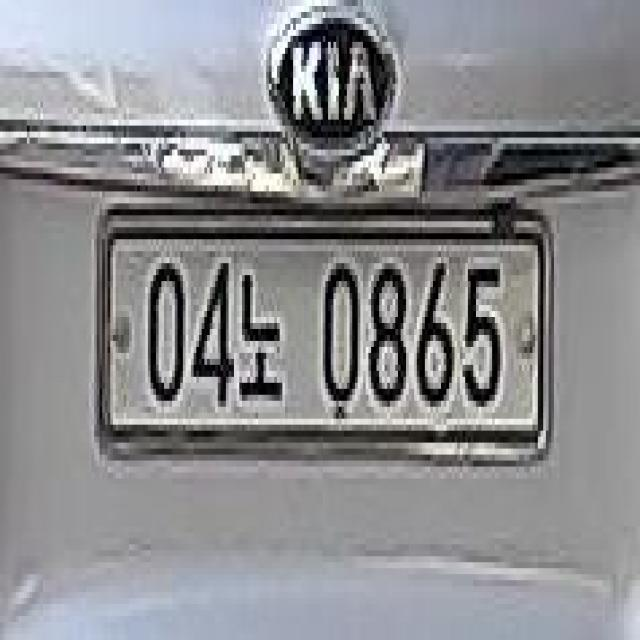illegal_plate: (93, 200, 552, 481)
